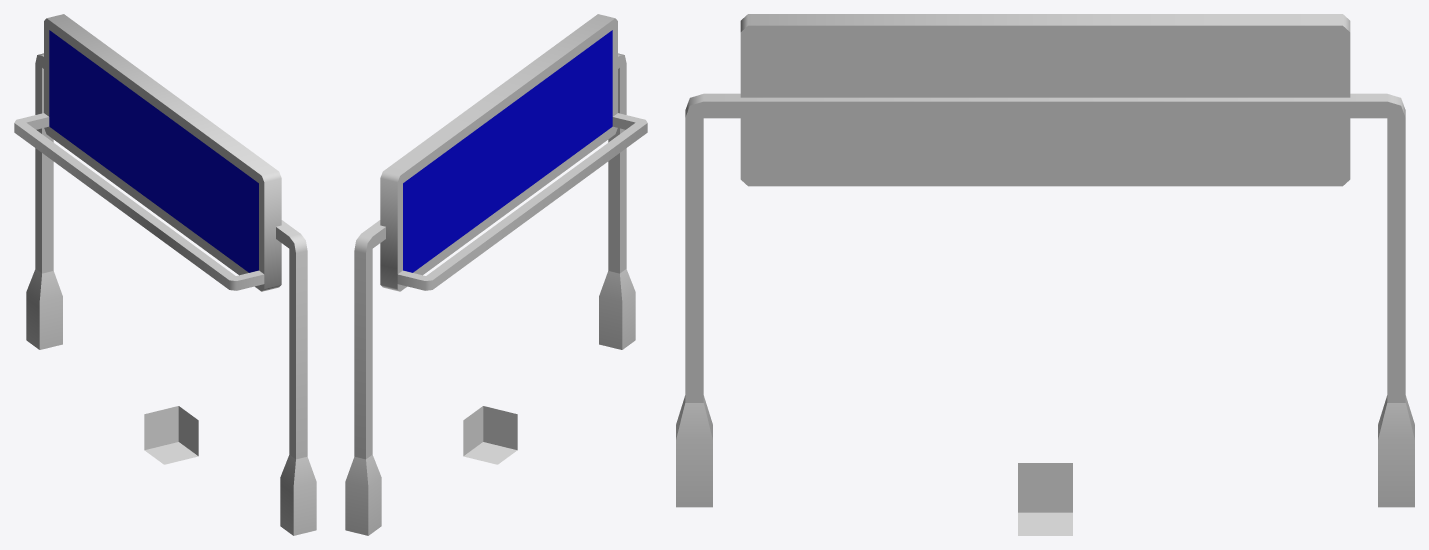
Rendered from func-checkpoint.glb.
3 renders of one model, left to right at view 1: azimuth 30°, elevation 25°; view 2: azimuth 150°, elevation 25°; view 3: azimuth 270°, elevation 25°, orthographic. The views are drawn at different scales.
Parts seen in each view (by area): view 1: checkpoint, spawnpoint; view 2: checkpoint, spawnpoint; view 3: checkpoint, spawnpoint.
Boxes of the visible parts, left/top/right/bottom form: checkpoint: left=14, top=14, right=316, bottom=535; spawnpoint: left=144, top=406, right=198, bottom=464; checkpoint: left=345, top=14, right=647, bottom=535; spawnpoint: left=463, top=406, right=517, bottom=464; checkpoint: left=676, top=14, right=1414, bottom=507; spawnpoint: left=1018, top=463, right=1072, bottom=535.
Size of what is drawn, in the model's own units: 0.1446 by 0.7446 by 1.
